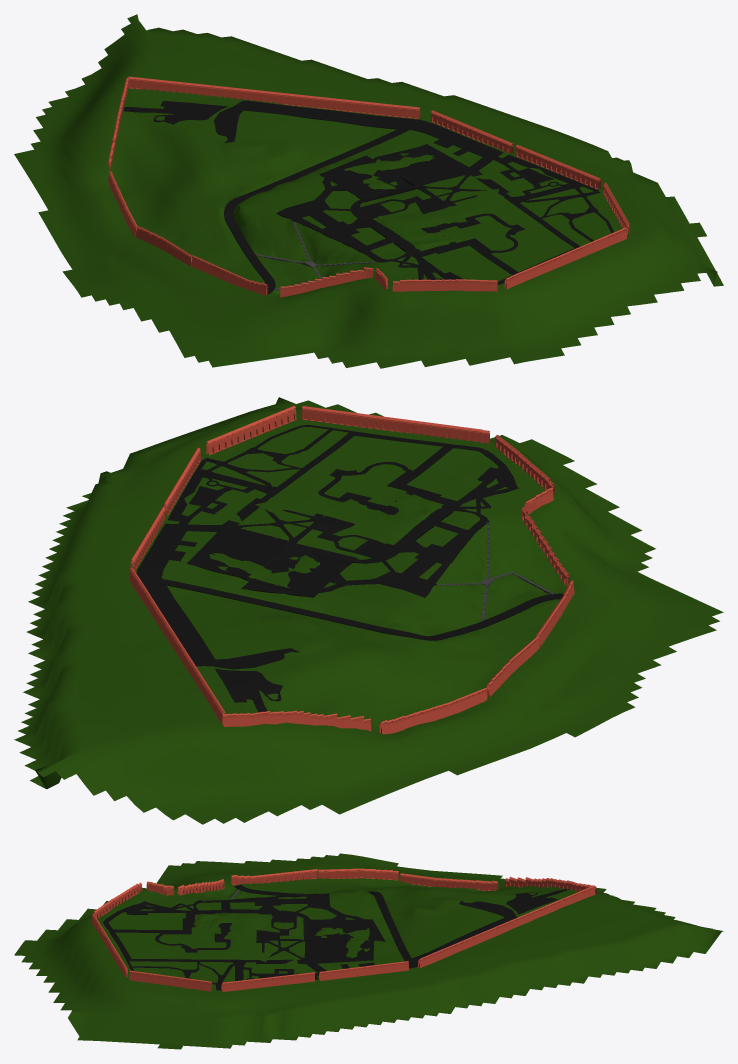
3 renders of one model, top to bottom at view 1: azimuth 30°, elevation 25°; view 2: azimuth 150°, elevation 25°; view 3: azimuth 270°, elevation 25°, orthographic. The views are drawn at different scales.
Visible parts, largest first — view 1: terrain, road2, walls, road3, road1, road4; view 2: terrain, road2, walls, road3, road1, road4, stairs; view 3: terrain, walls, road2, road3, road1, road4.
Boxes of the visible parts, <box> form: terrain: <box>14,14,723,368</box>; road2: <box>276,144,613,284</box>; walls: <box>107,76,630,297</box>; road3: <box>214,100,494,156</box>; road1: <box>224,127,408,294</box>; road4: <box>123,100,227,124</box>; terrain: <box>14,397,723,824</box>; road2: <box>162,425,518,597</box>; walls: <box>129,405,574,734</box>; road3: <box>136,529,299,669</box>; road1: <box>161,579,563,640</box>; road4: <box>214,668,282,712</box>; stairs: <box>437,522,554,620</box>; terrain: <box>14,853,723,1049</box>; walls: <box>91,868,596,991</box>; road2: <box>103,893,385,990</box>; road3: <box>340,900,517,968</box>; road1: <box>234,884,412,960</box>; road4: <box>506,889,568,914</box>.
Bounding box in the file's own units: 3182 × 392 × 4489.
